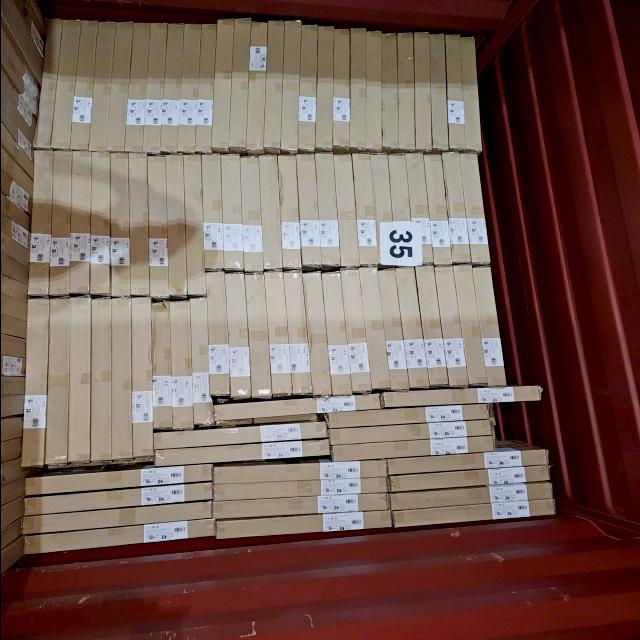Carton: (148, 422, 332, 464), (23, 481, 214, 518), (22, 500, 214, 536), (20, 520, 214, 554), (25, 462, 213, 497), (153, 436, 329, 472), (152, 418, 328, 451), (389, 498, 555, 532), (19, 298, 52, 468), (41, 294, 72, 468), (215, 510, 394, 540), (410, 264, 452, 388), (388, 481, 556, 512), (386, 464, 554, 495), (392, 263, 431, 391), (213, 492, 389, 520), (431, 266, 470, 390), (331, 435, 496, 464), (44, 149, 76, 297), (327, 419, 495, 447), (22, 150, 54, 296), (385, 448, 551, 476), (126, 297, 154, 461), (374, 266, 410, 393), (65, 295, 91, 467), (212, 460, 390, 485), (327, 403, 491, 430), (214, 477, 390, 502), (108, 295, 134, 464), (86, 296, 112, 464), (451, 266, 487, 386), (86, 18, 118, 152), (103, 21, 135, 153), (300, 272, 332, 404), (357, 266, 391, 390), (282, 269, 314, 399), (376, 384, 542, 409), (472, 267, 506, 388), (180, 152, 208, 298), (138, 20, 168, 154), (87, 150, 113, 296), (156, 20, 184, 153), (224, 270, 252, 402), (175, 22, 203, 153), (146, 154, 171, 298), (126, 152, 151, 296), (243, 20, 270, 153), (440, 152, 472, 264), (226, 19, 253, 150), (193, 23, 220, 154), (260, 19, 286, 153), (404, 152, 434, 268), (458, 153, 489, 265), (208, 17, 234, 150), (125, 22, 151, 155), (164, 154, 188, 298), (188, 296, 214, 428), (275, 150, 303, 272), (292, 152, 320, 270), (109, 151, 131, 297), (296, 24, 321, 152), (350, 154, 378, 268), (331, 154, 359, 268), (238, 154, 264, 276), (219, 154, 245, 274), (278, 21, 302, 150), (346, 27, 371, 150), (200, 152, 226, 270), (386, 152, 412, 268), (313, 26, 337, 150), (366, 153, 392, 266), (378, 32, 402, 150), (258, 154, 282, 270), (363, 30, 385, 152), (428, 31, 450, 151), (430, 151, 452, 267), (319, 152, 341, 268), (332, 27, 352, 151), (444, 30, 464, 152), (412, 30, 432, 152), (396, 31, 416, 151), (462, 35, 480, 153), (0, 336, 24, 396)
